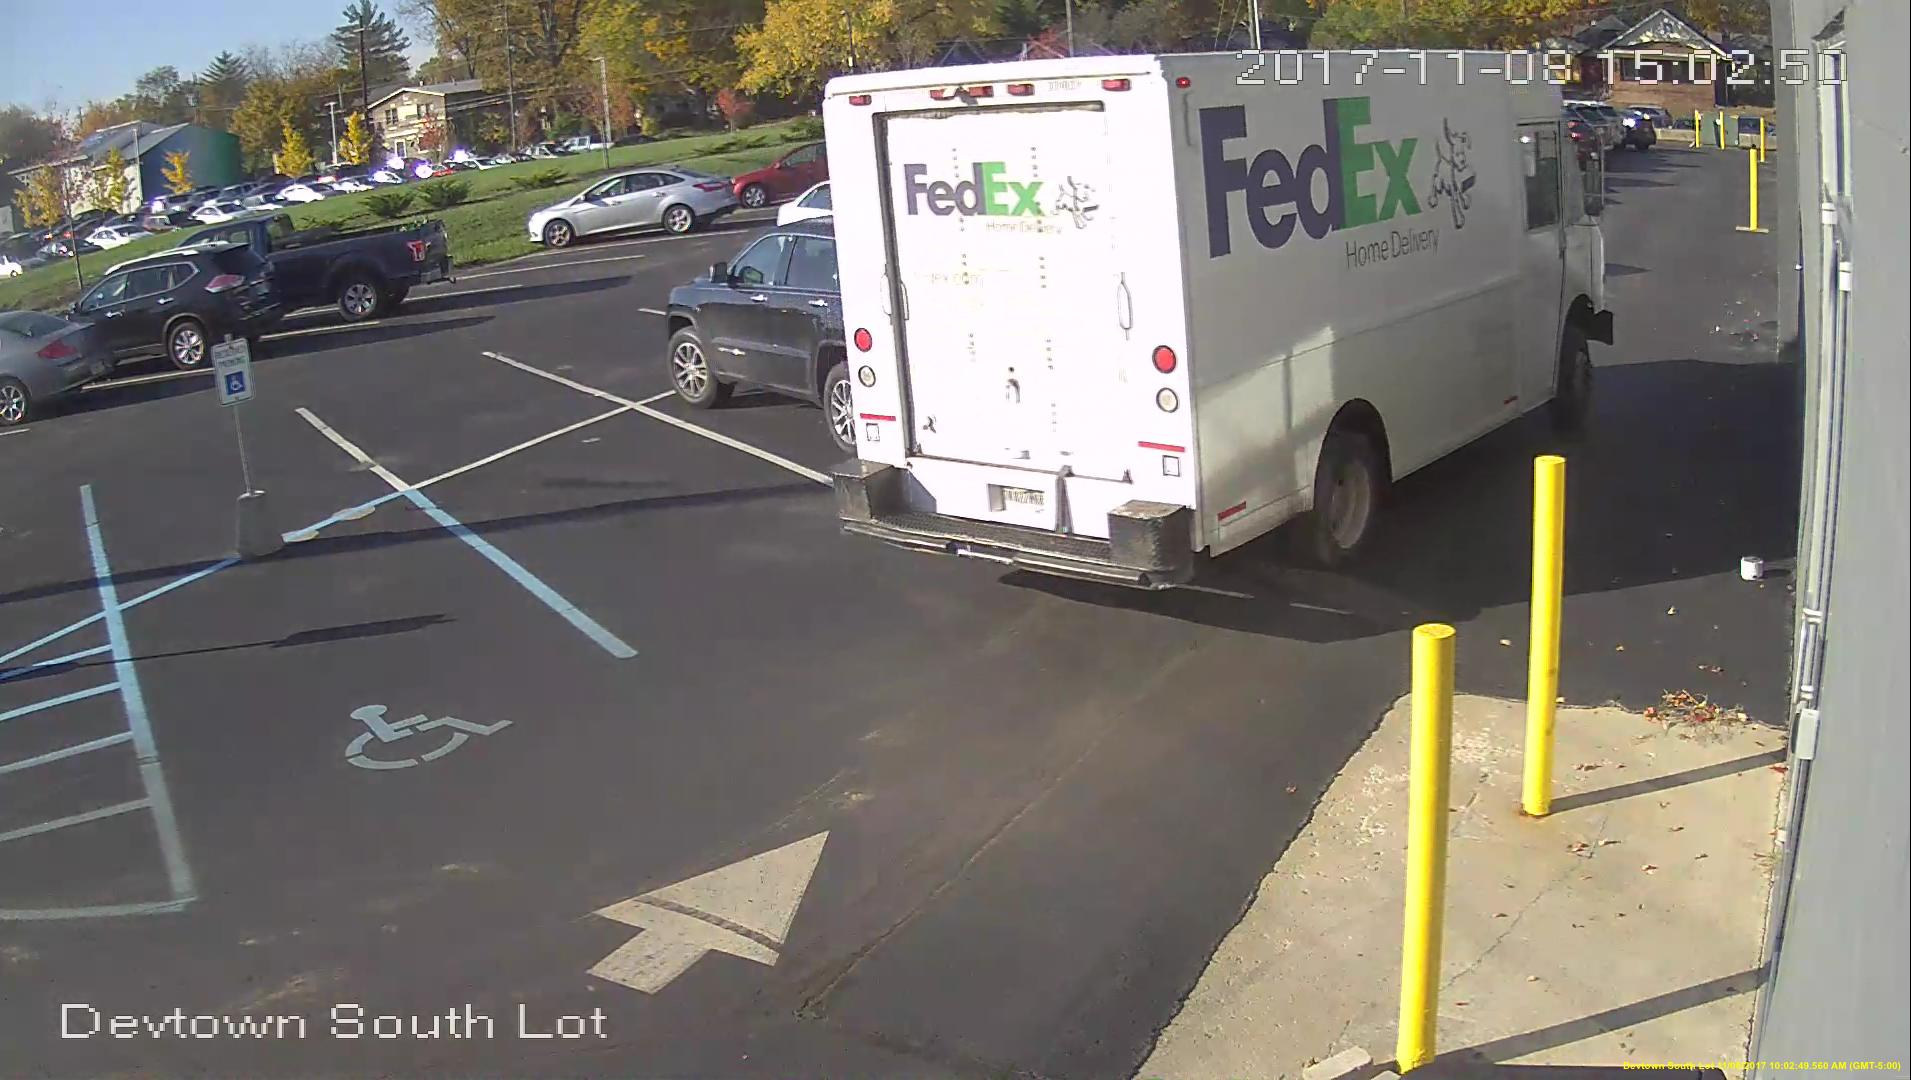fedex_truck: (819, 42, 1625, 597)
